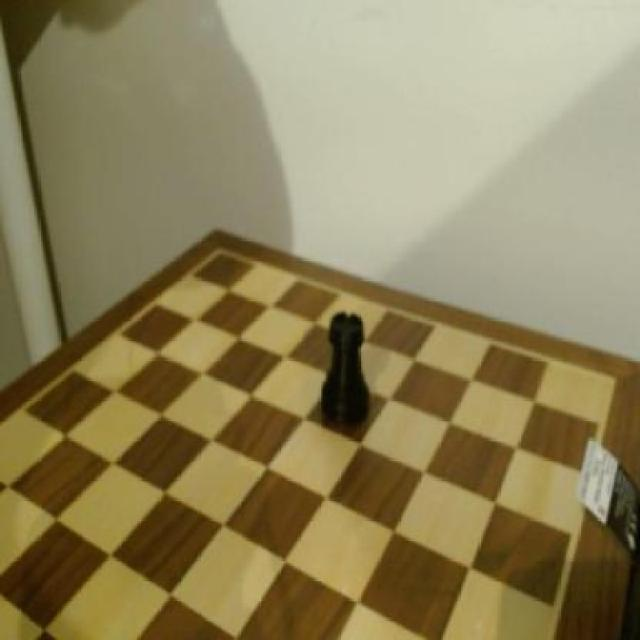black-queen: (318, 306, 374, 433)
